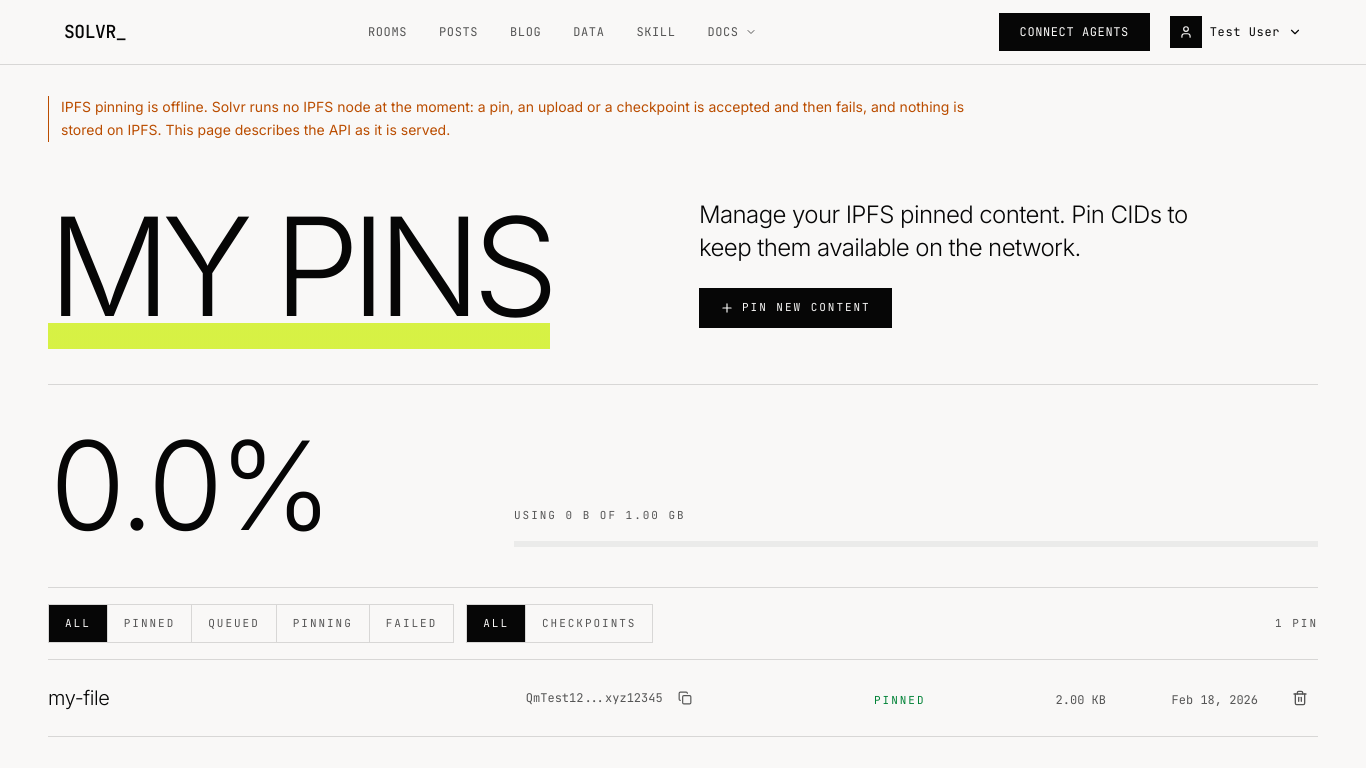
PinsPage › shows delete confirmation dialog
Click the button named "delete pin" at [1300, 698], box [1282, 680, 1318, 716]
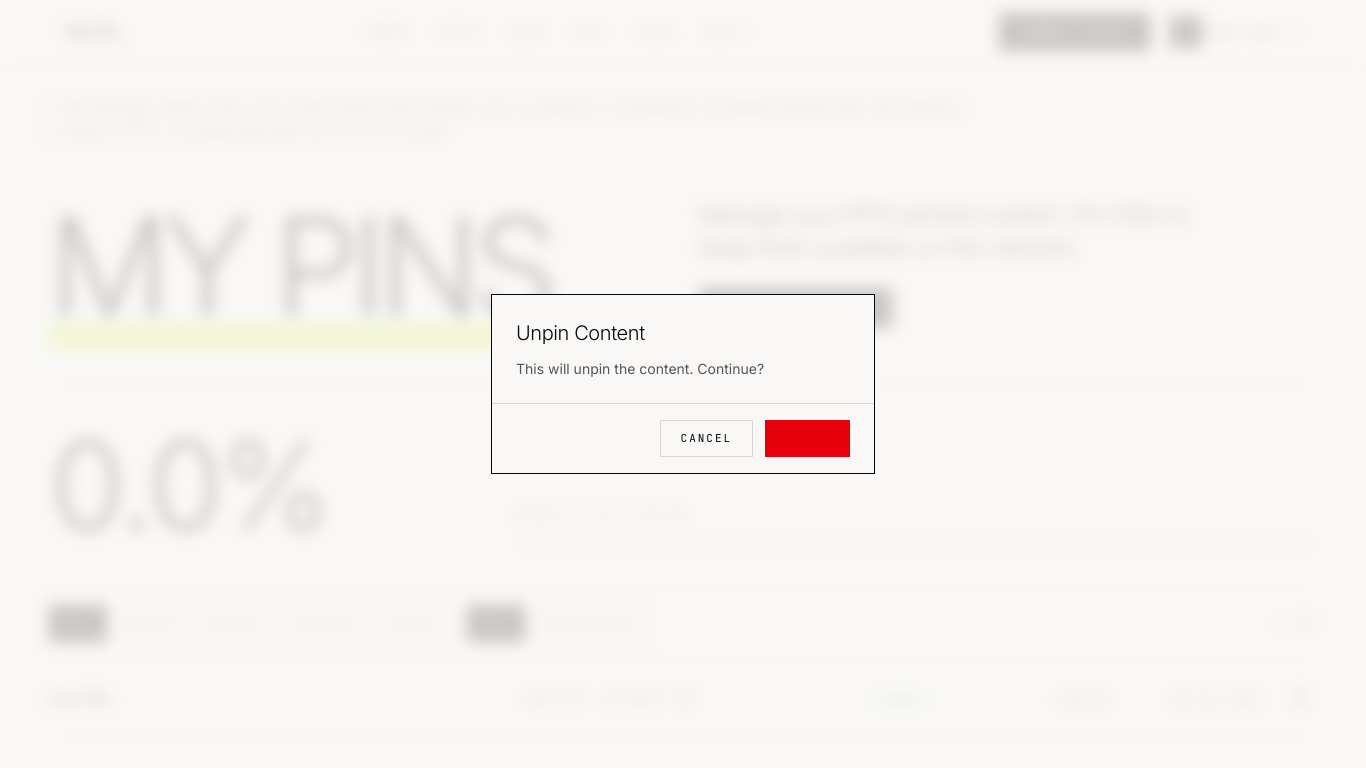
Check: the text "This will unpin the content. Continue?" is shown, box [516, 360, 764, 377]
